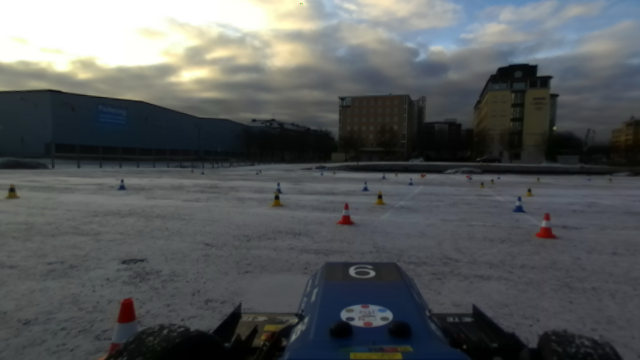blue: (512, 195, 525, 213), (115, 177, 127, 191), (361, 181, 370, 192), (274, 181, 282, 192)
orange: (534, 212, 557, 239), (337, 200, 355, 225)
yellow: (270, 191, 284, 208), (373, 190, 386, 207), (6, 183, 19, 199)
